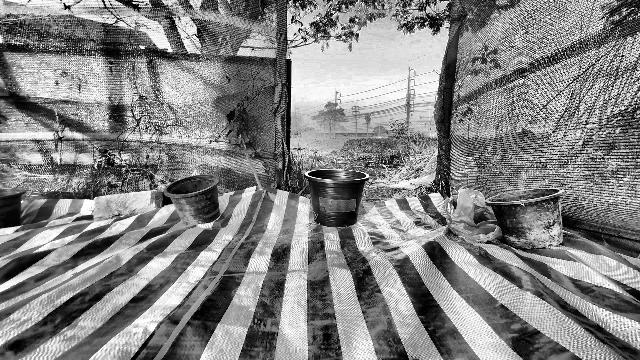pot: (483, 186, 565, 249), (303, 167, 369, 228), (162, 174, 221, 225), (0, 188, 25, 229)
